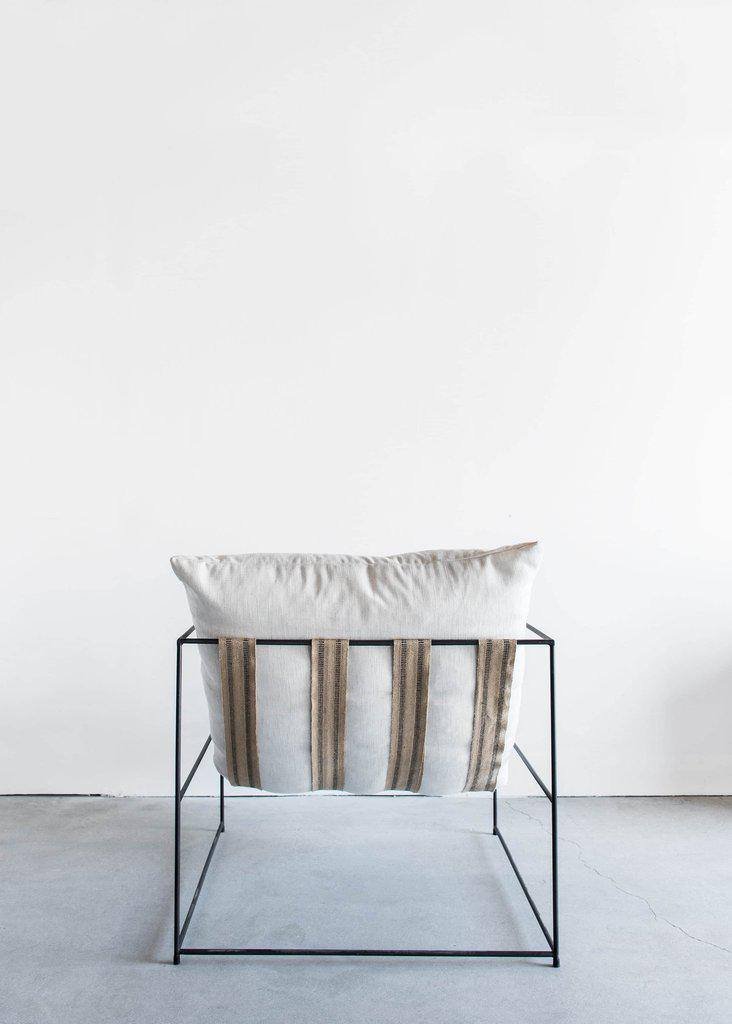chair: (129, 496, 638, 986)
